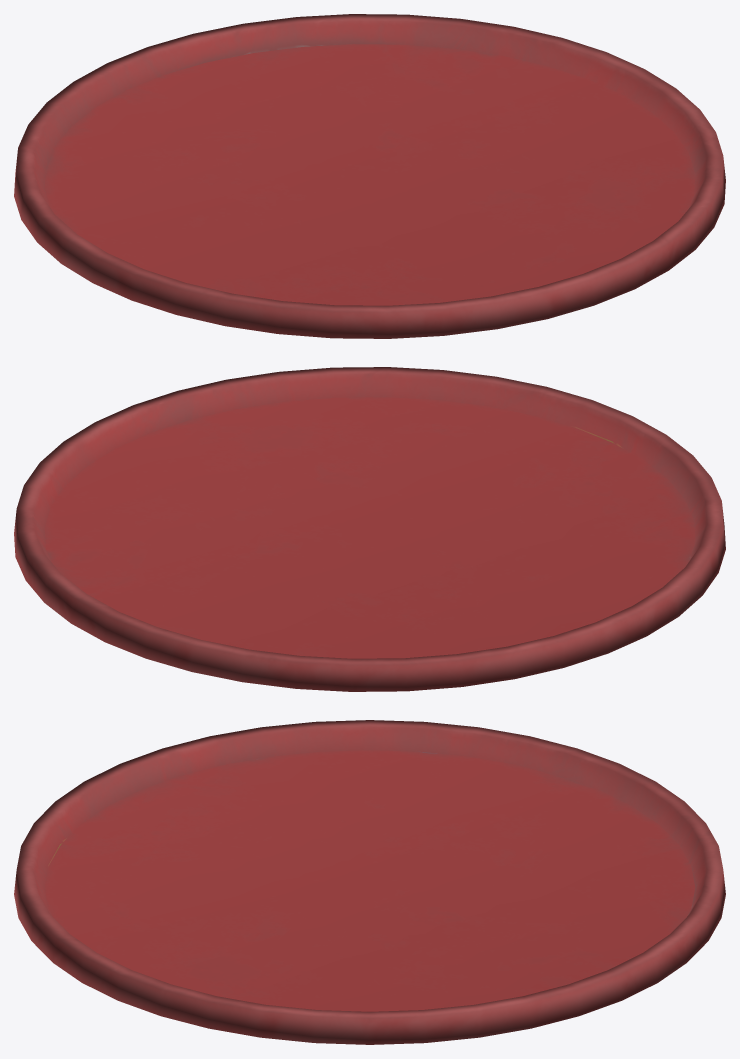
File: SM_Dish.fbx
The picture shows the model from 3 angles, top to bottom: view 1: azimuth 30°, elevation 25°; view 2: azimuth 150°, elevation 25°; view 3: azimuth 270°, elevation 25°; orthographic projection.
Visible parts, largest first — view 1: SM_Dish_LOD0; view 2: SM_Dish_LOD0; view 3: SM_Dish_LOD0.
Boxes of the visible parts, box(x1,y1,x2,y2) form: SM_Dish_LOD0: box(14, 14, 725, 338); SM_Dish_LOD0: box(14, 367, 725, 691); SM_Dish_LOD0: box(14, 720, 725, 1044).
Size of the model in its own units: 27.34 by 27.34 by 1.36.
1 material, 1 textured.
